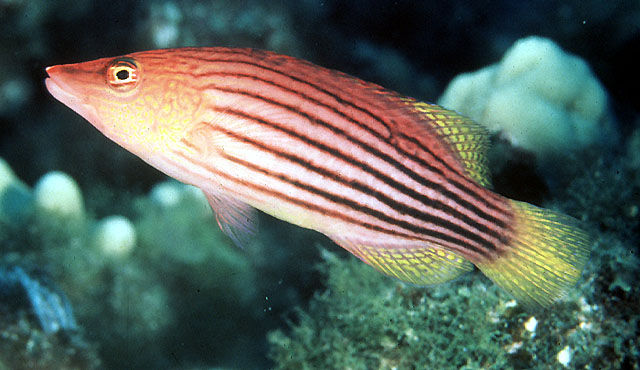fish: (42, 47, 591, 313)
